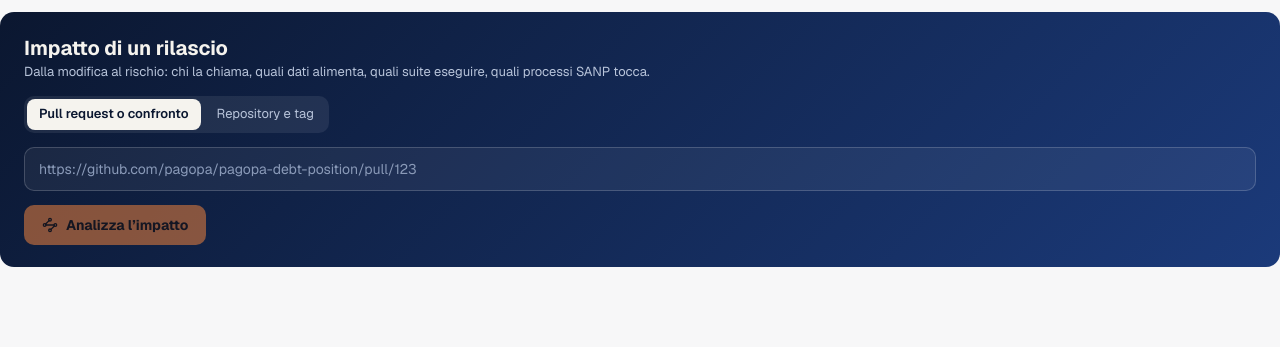
EaImpact › sends repository and tags in the second mode and shows backend errors
Step 1. Click the radio button labelled "Repository e tag" → coordinates (265, 114), box 204,99 -> 326,130
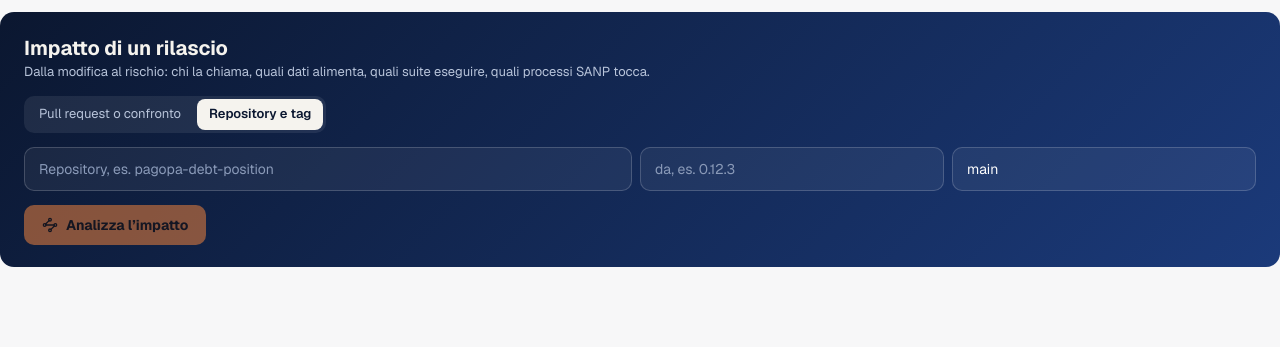
Step 2. Type "x" into the field labelled "Repository" → coordinates (328, 169), box 24,147 -> 632,191
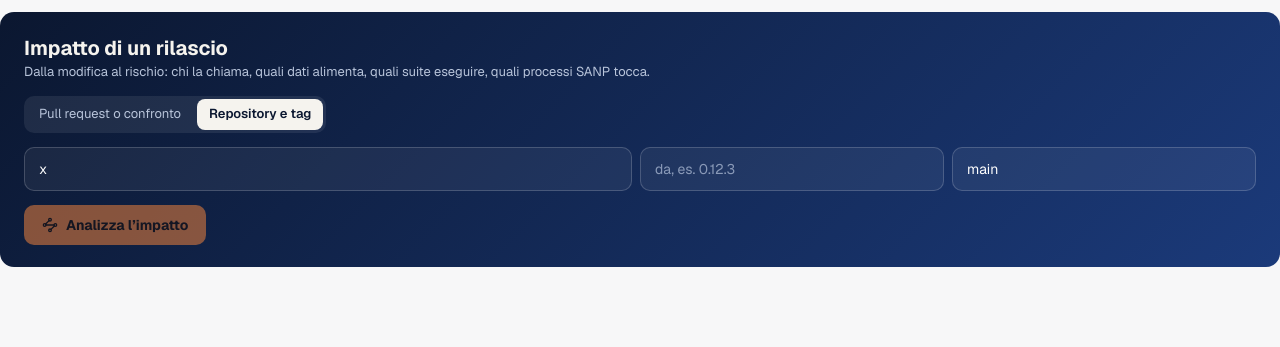
Step 3. Type "1.0.0" into the field named "Riferimento di partenza" → coordinates (792, 169), box 640,147 -> 944,191
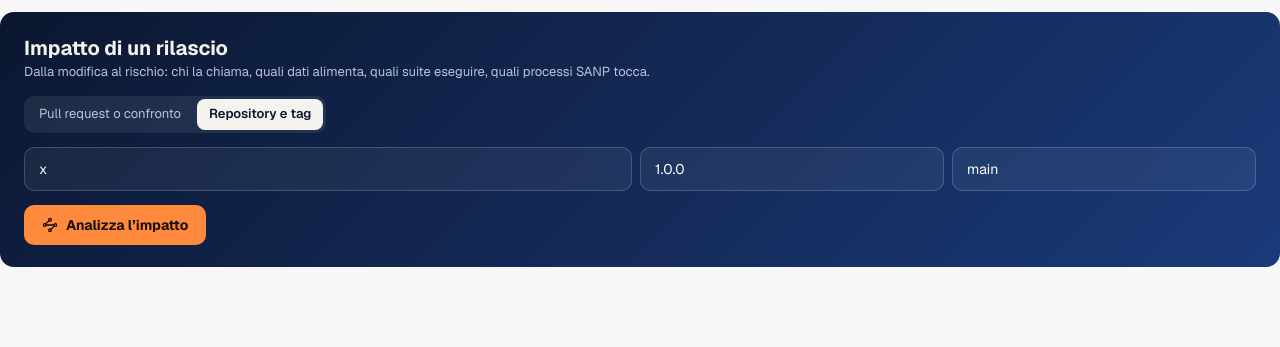
Step 4. Click the button "Analizza l’impatto" → coordinates (115, 225), box 24,205 -> 206,245
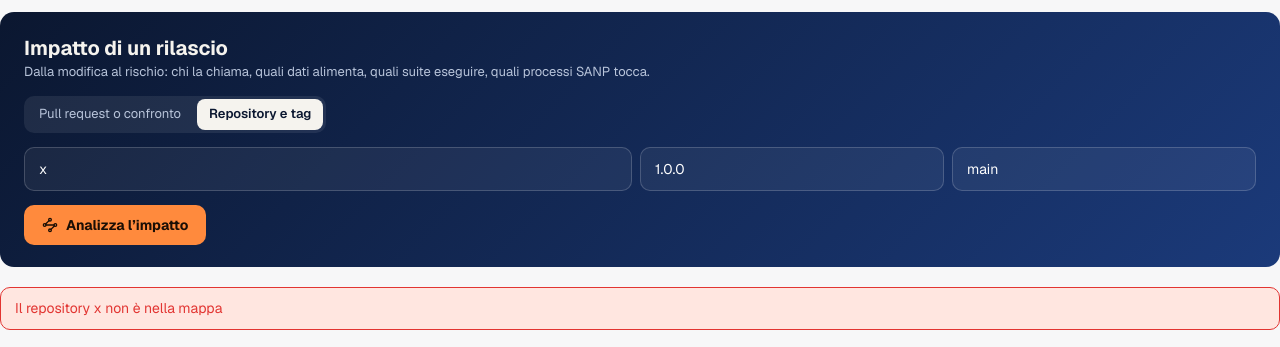
Now the message reads "Il repository x non è nella mappa", box 15,299 -> 222,317
